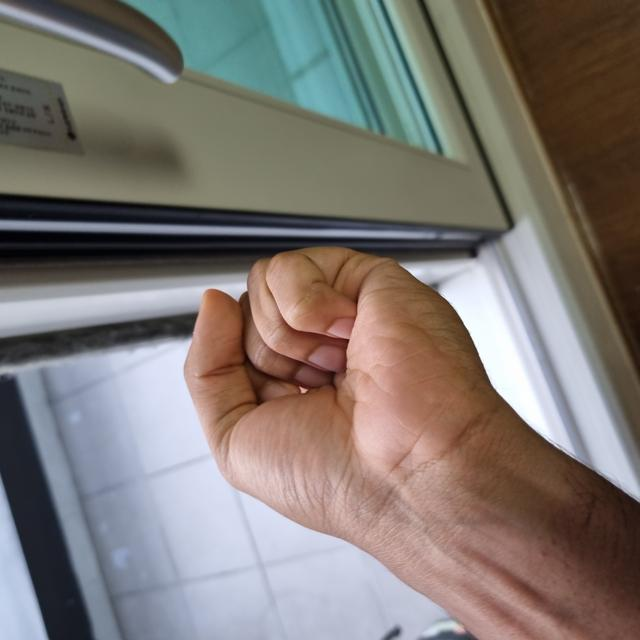Rock: (3, 182, 395, 635)
